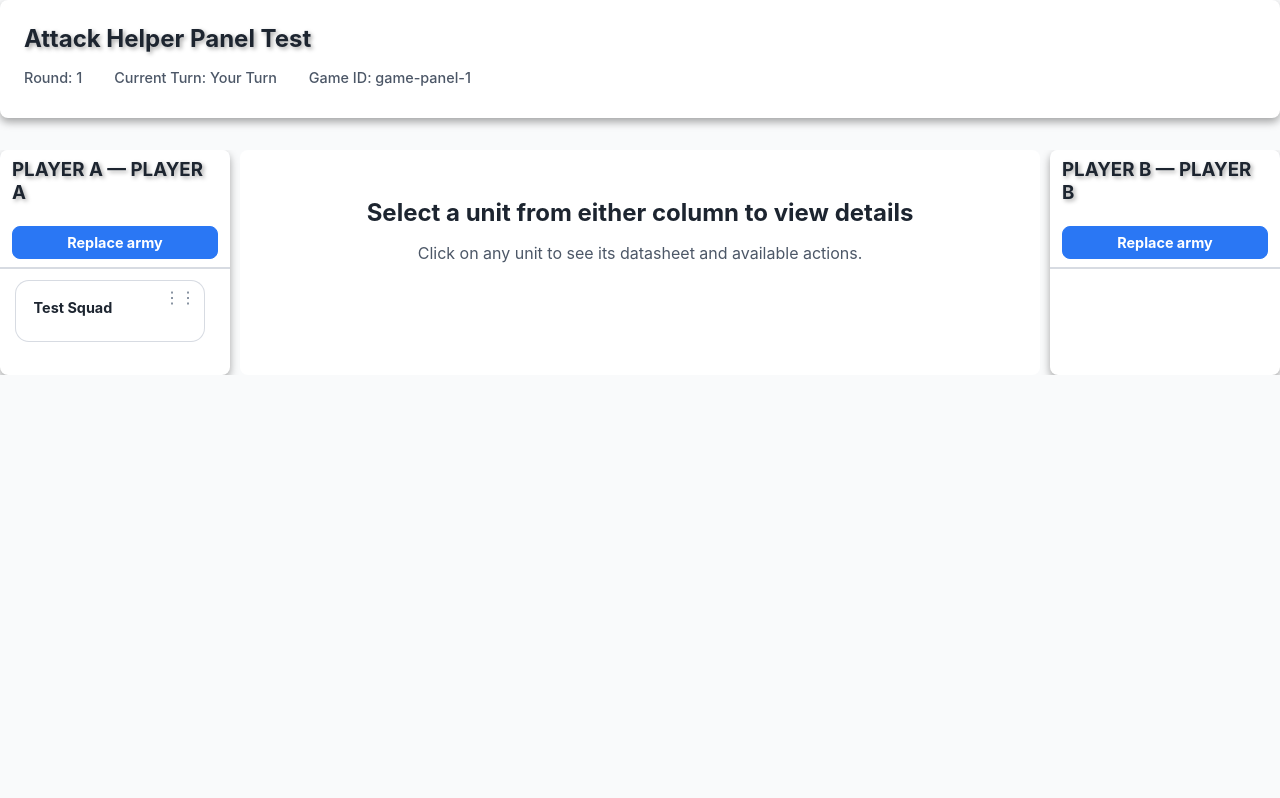
Attack Helper panel › opens from weapon row click and shows placeholders when no target
This screenshot has width=1280, height=798.
Click the button "⋮⋮ Test Squad". click: x=110, y=312
box: [15, 280, 205, 343]
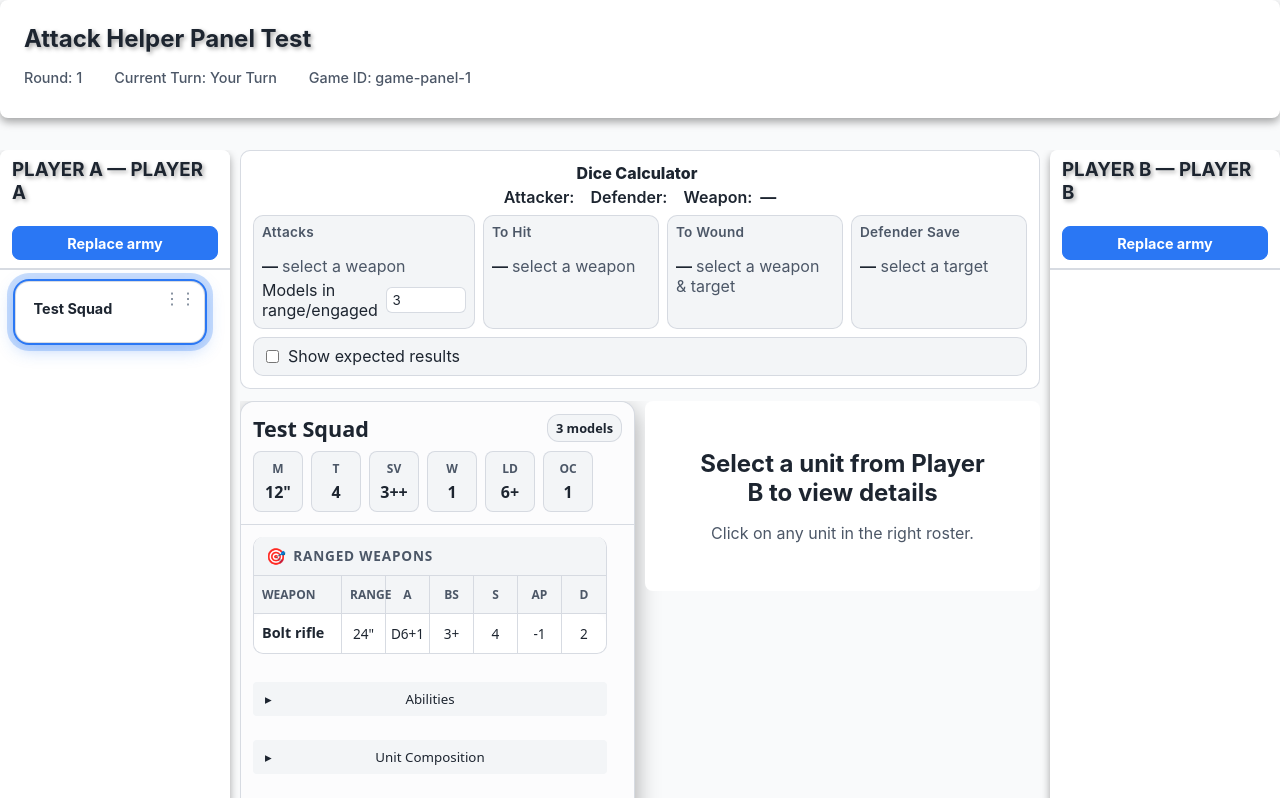
Click the button "Bolt rifle 24\" D6+1 3+ 4 -1 2". click: x=430, y=633
box: [254, 614, 606, 652]
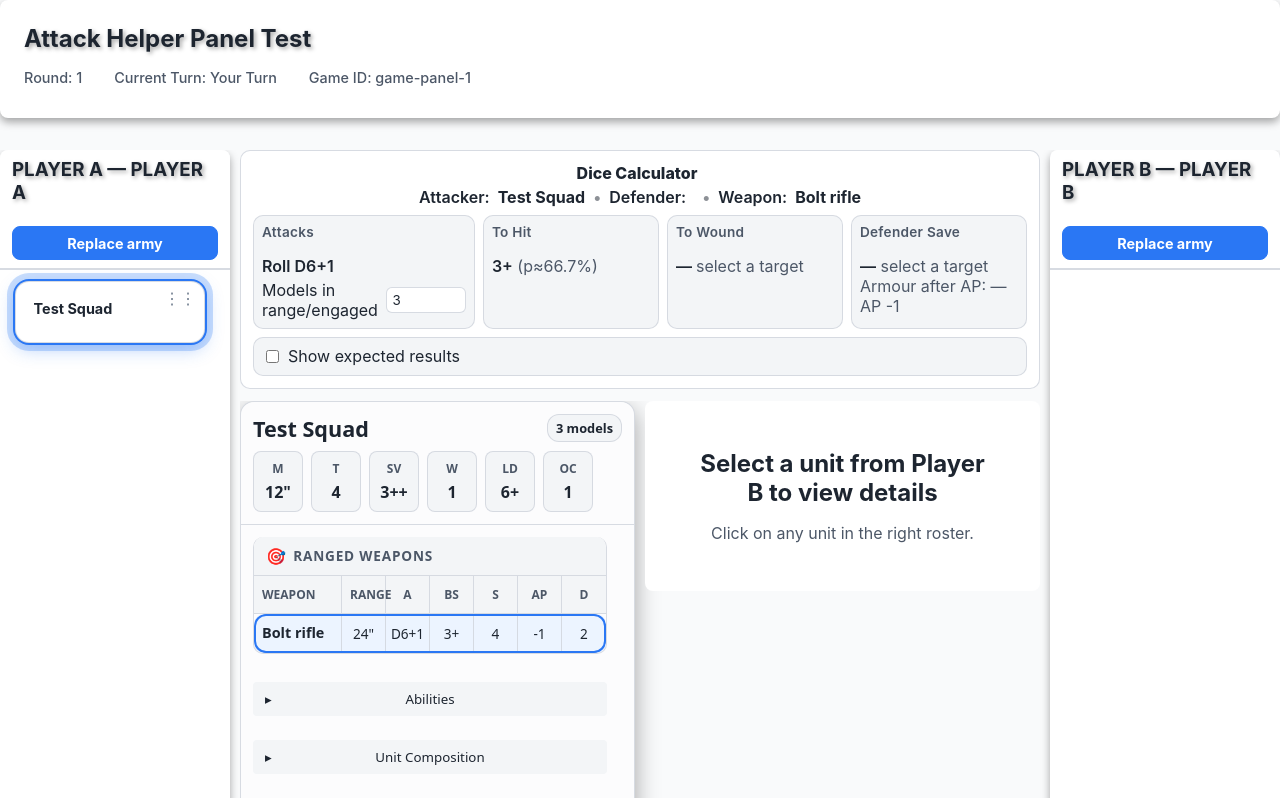
Expected: the element named "attack helper" is shown, [240, 150, 1040, 388]
Expected: the text "Roll D6+1" is shown, [262, 256, 334, 276]
Expected: the text "select a target" below "To Wound" is shown, [696, 256, 804, 276]
